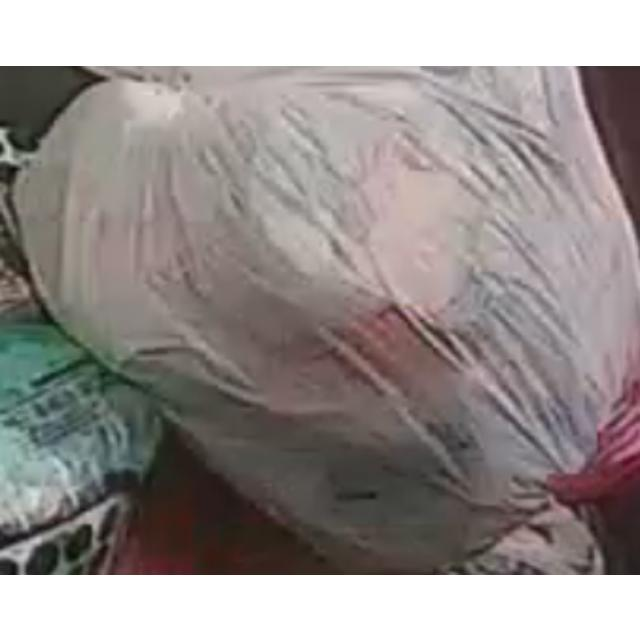general_trashbag: (0, 319, 161, 573)
other_trashbag: (16, 65, 640, 569)
